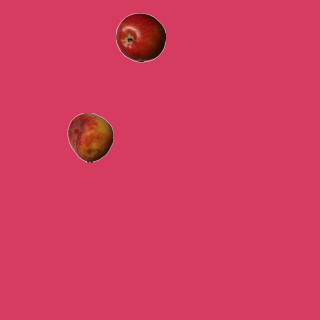Apple Braeburn: (115, 12, 165, 62)
Peach: (65, 112, 115, 162)
